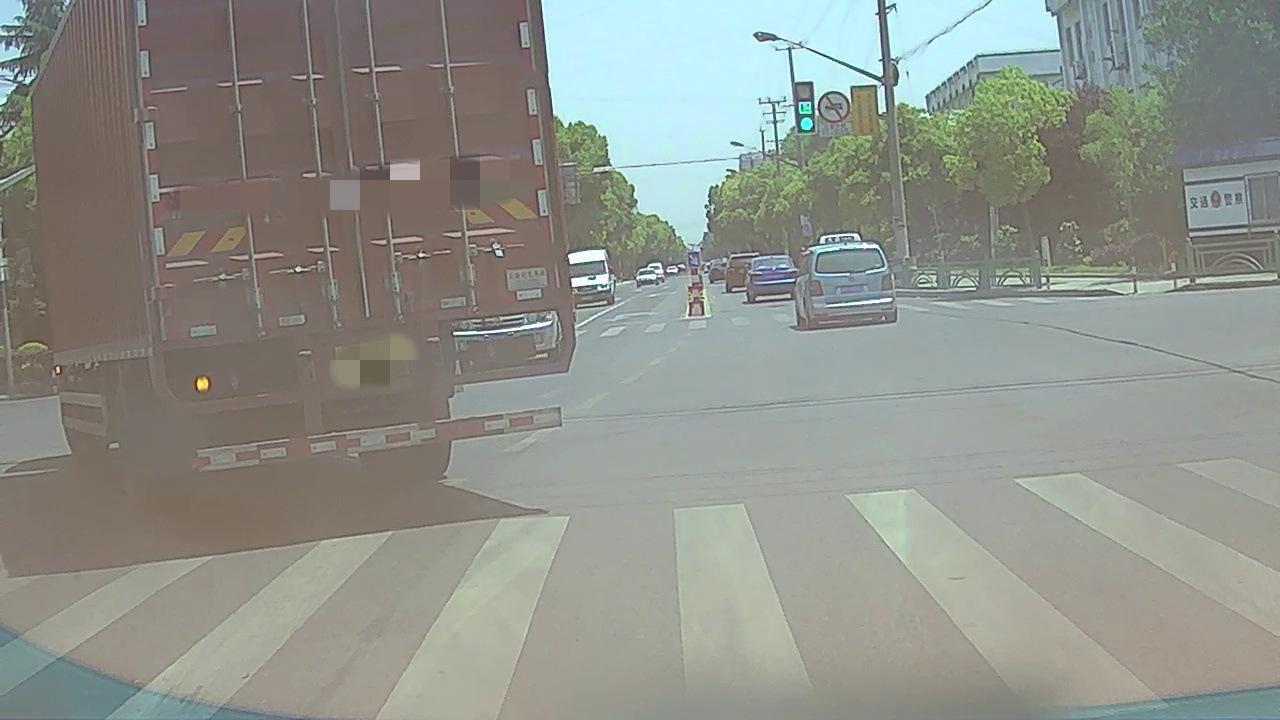traffic_light: (796, 83, 815, 134)
